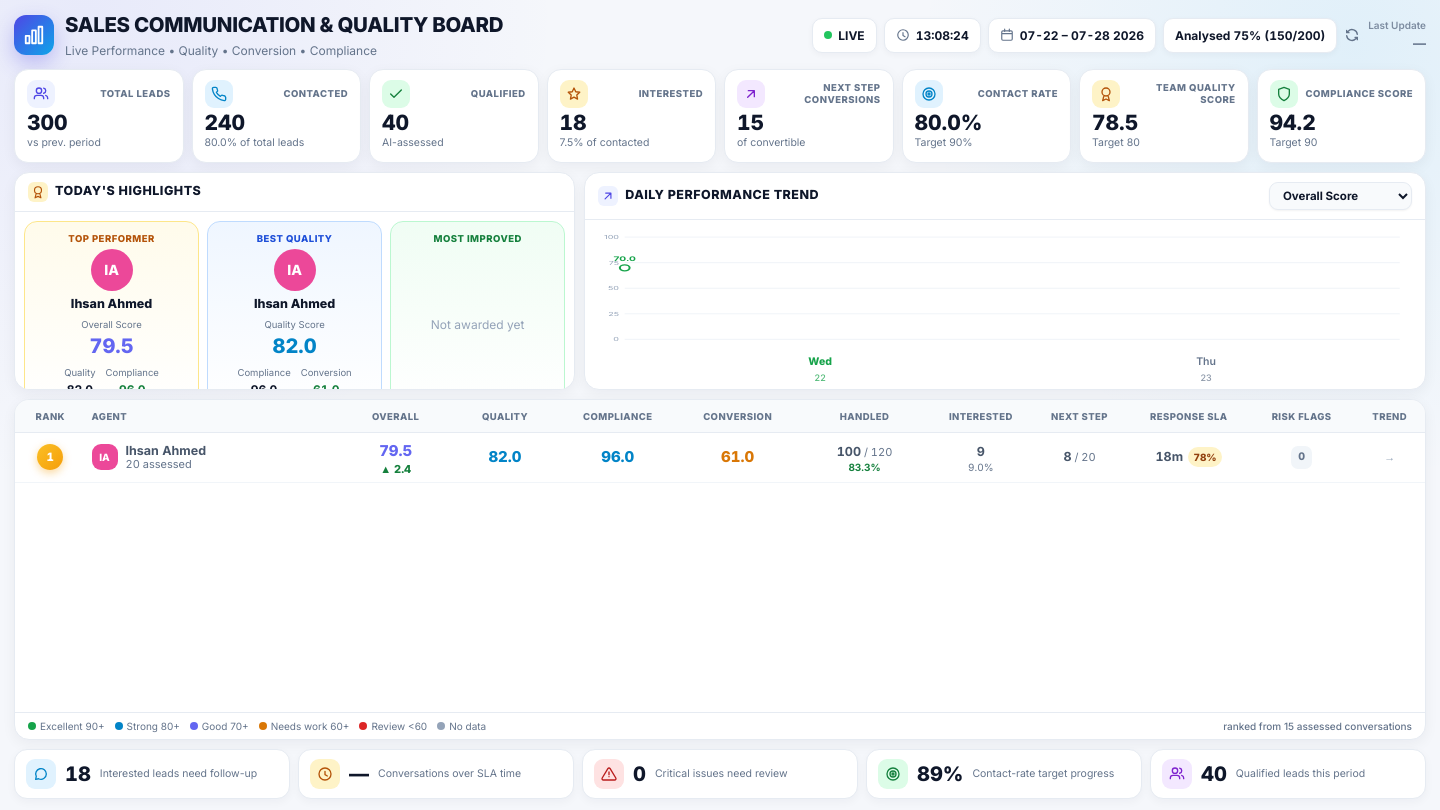
Test: drill-down conflict badge › stays quiet when the two agree
Click the element with class "click" that starts with "Interested leads need follow-up" at (152, 774), box 14,749 -> 290,799
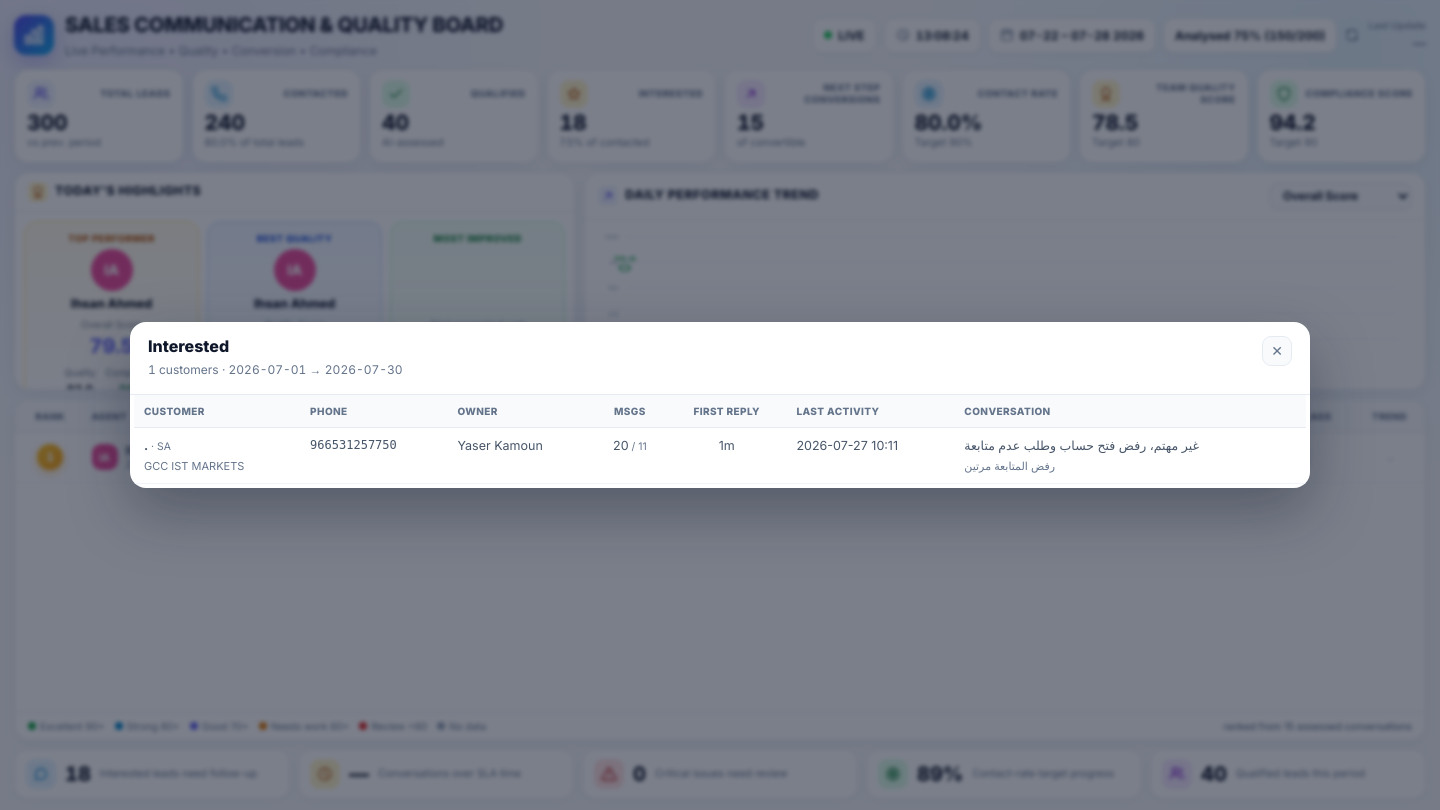
Now the row that starts with "GCC IST MARKETS" is shown, box 134,427 -> 1306,484
